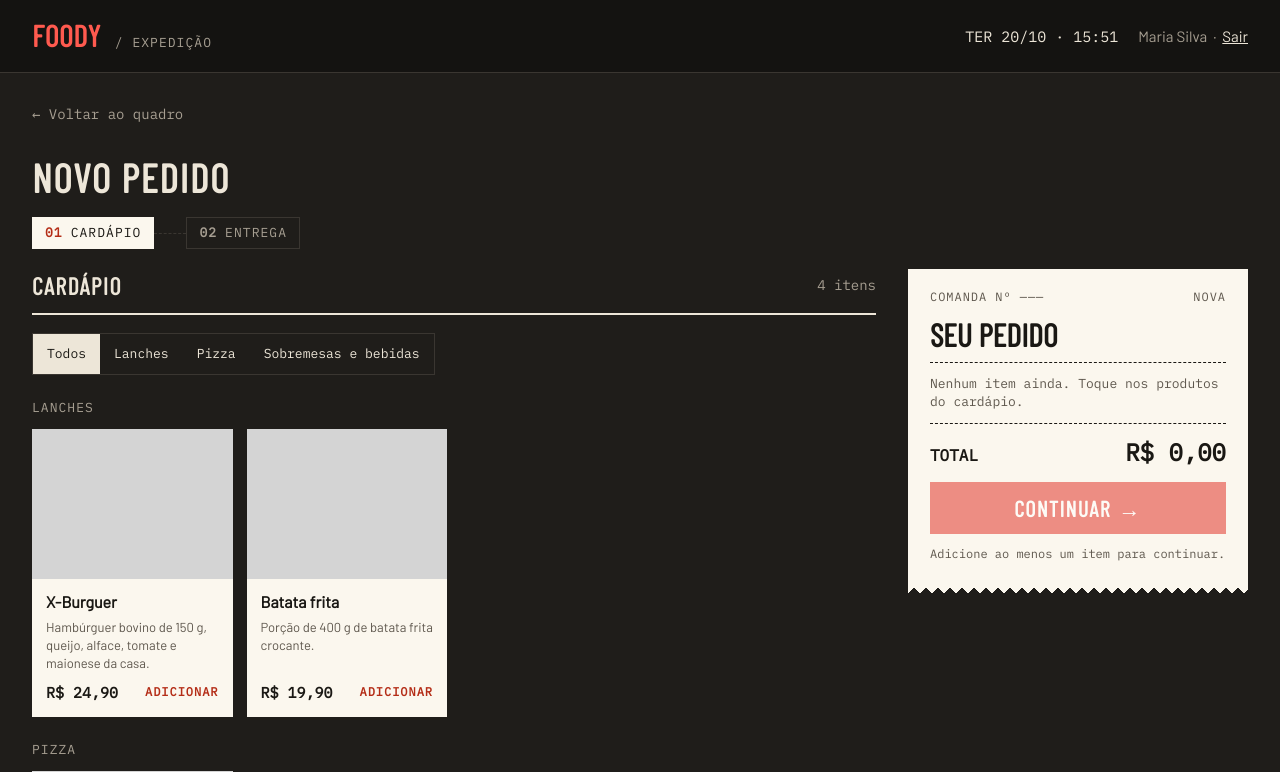
Scenario: NewOrderPage › shows the catalog grouped by category and filters it with the chips
Expected: the element "Lanches" is shown, [32, 399, 447, 717]
Click the button "Pizza".
click(216, 354)  # box [183, 334, 250, 374]
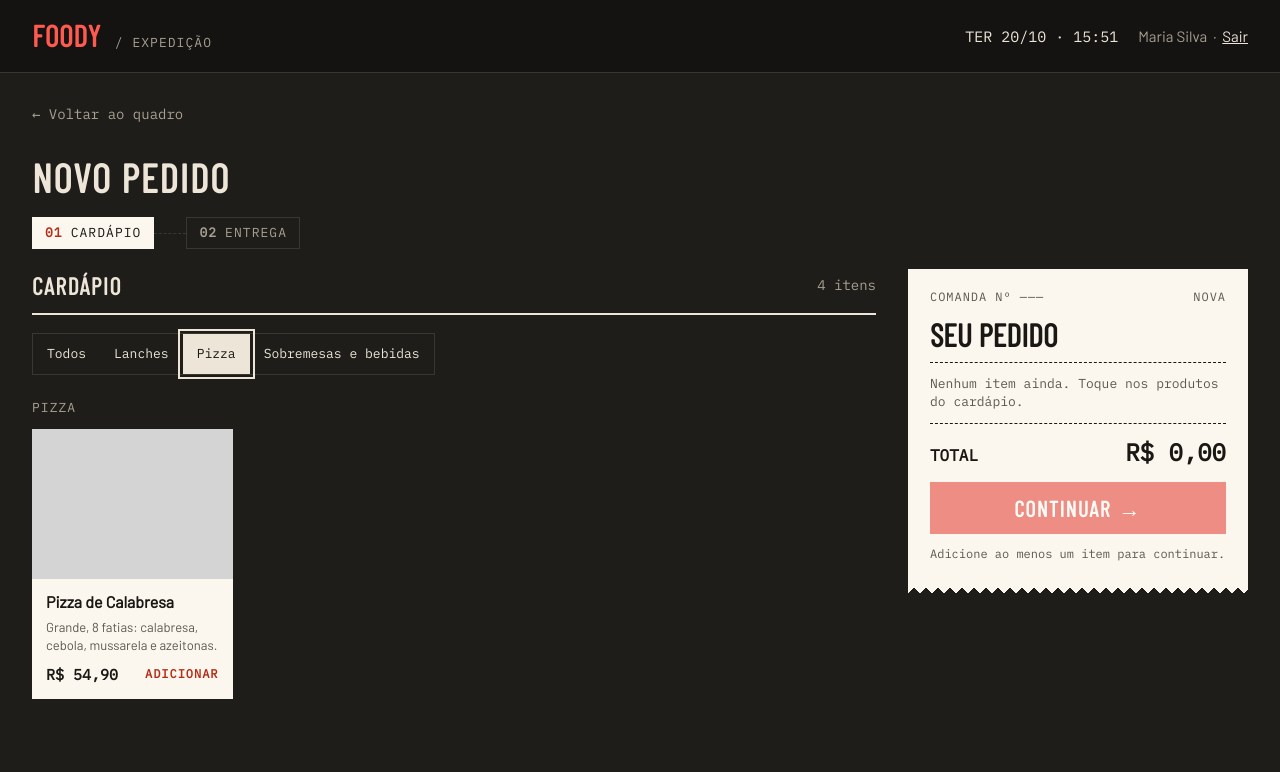
Expected: the button "X-Burguer" is gone
Click the button "Todos".
click(66, 354)  # box [33, 334, 100, 374]
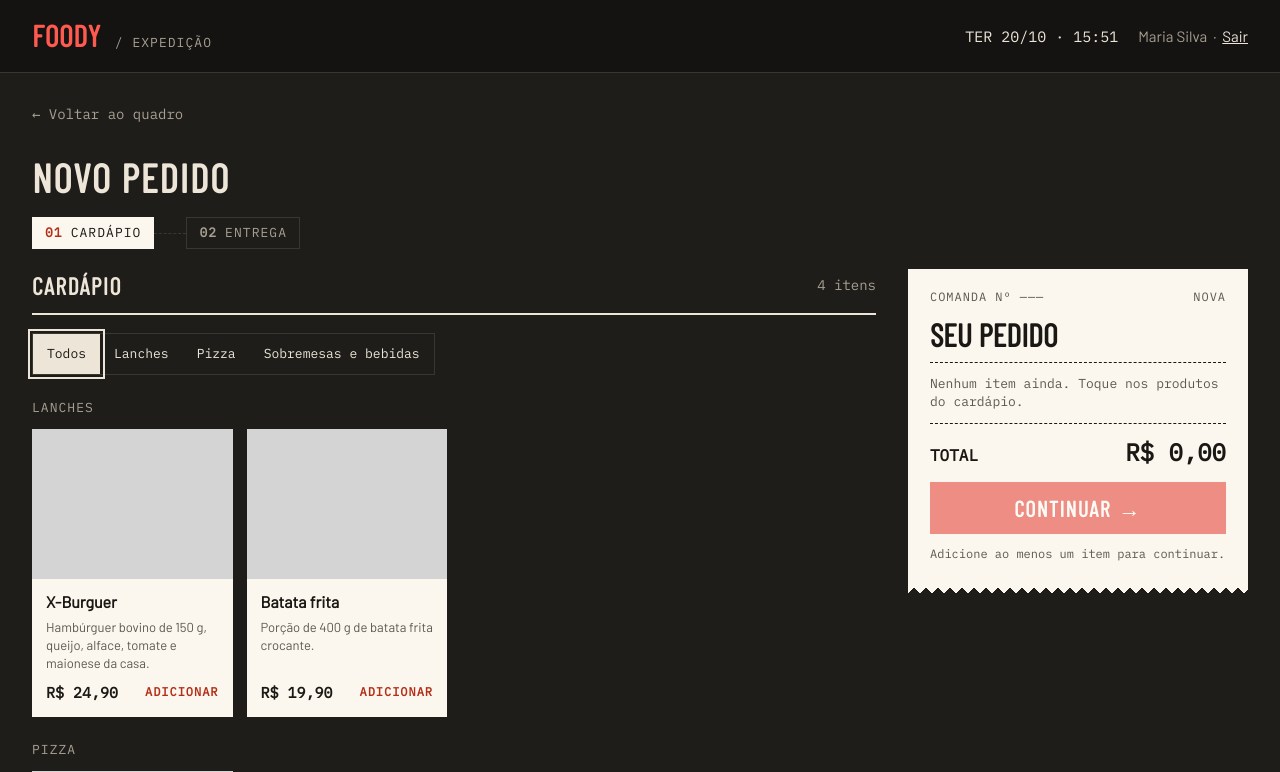
Expected: the element "Lanches" is shown, [32, 399, 447, 717]
